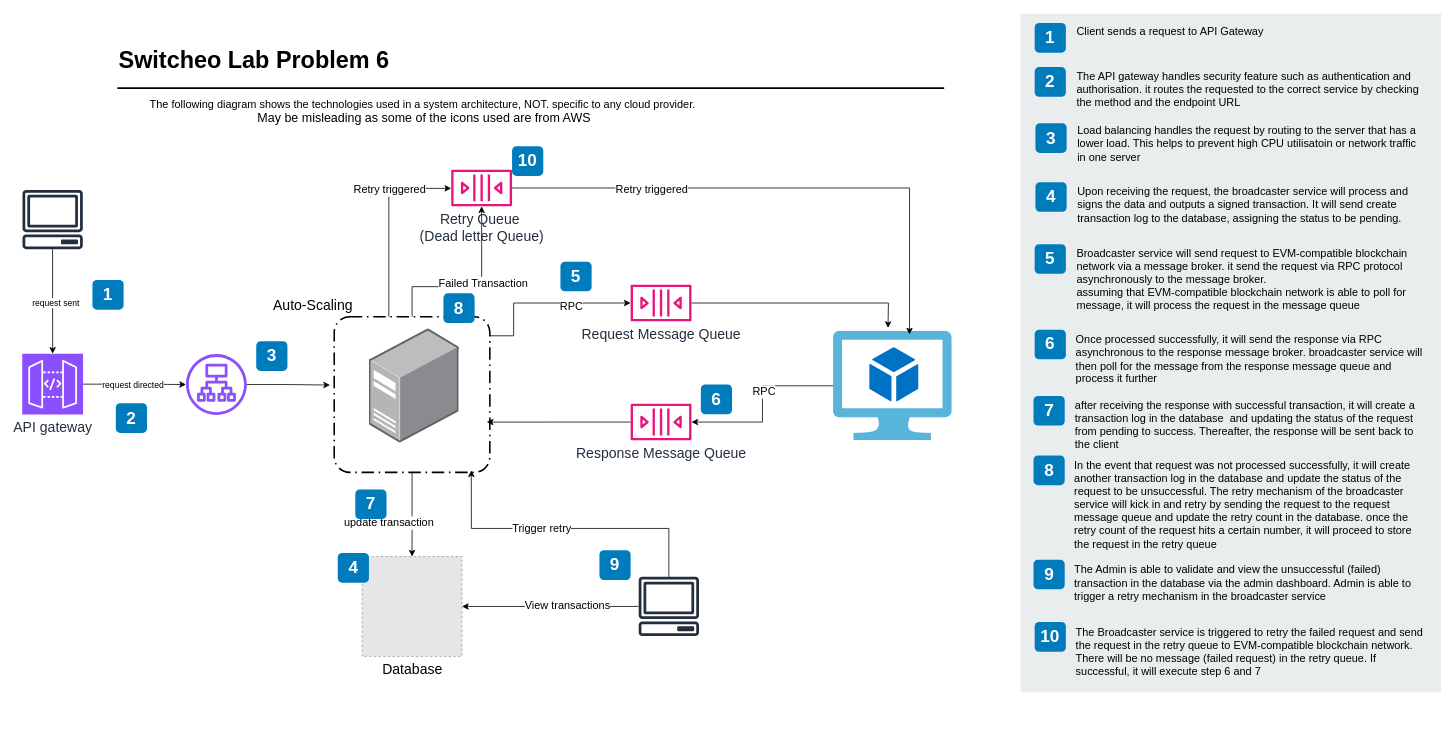
Image size: 1455x733. Some labels were removed from this diagram. Grey dashed boxes stand in for pictures. The shapes that lost their labels are listed below. From the top down, each one's centre as x and y in pixels, then its label:
At point 52,219: "Client".
At point 216,384: "Load Balancer".
At point 414,385: "broadcaster service".
At point 892,385: "EVM-compatible blockchain network".
At point 668,606: "Admin Dashboard".
